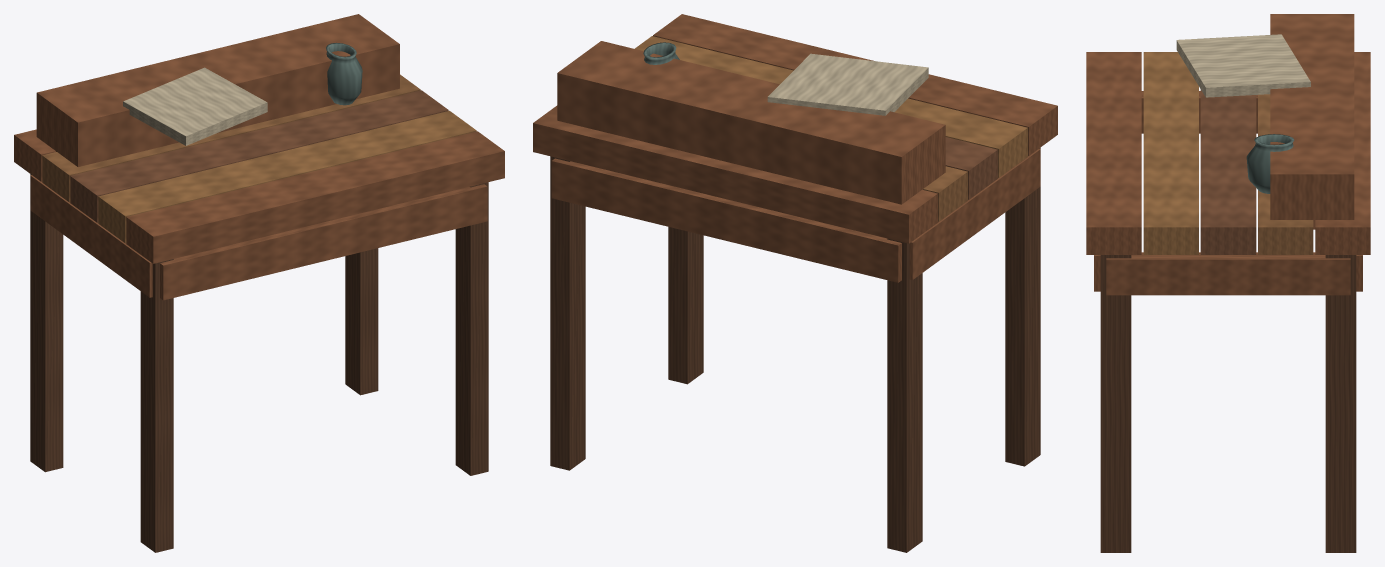
Rendered from desk.glb.
3 renders of one model, left to right at view 1: azimuth 30°, elevation 25°; view 2: azimuth 150°, elevation 25°; view 3: azimuth 270°, elevation 25°, orthographic. The views are drawn at different scales.
Visible parts, largest first — view 1: desk; view 2: desk; view 3: desk.
Boxes of the visible parts, x1,y1,x2,y2 form: desk: (14, 14, 504, 552); desk: (533, 14, 1057, 552); desk: (1086, 14, 1370, 552).
Size of the model in its own units: 1.08 by 1.1 by 0.7424.
1 material, 1 textured.
